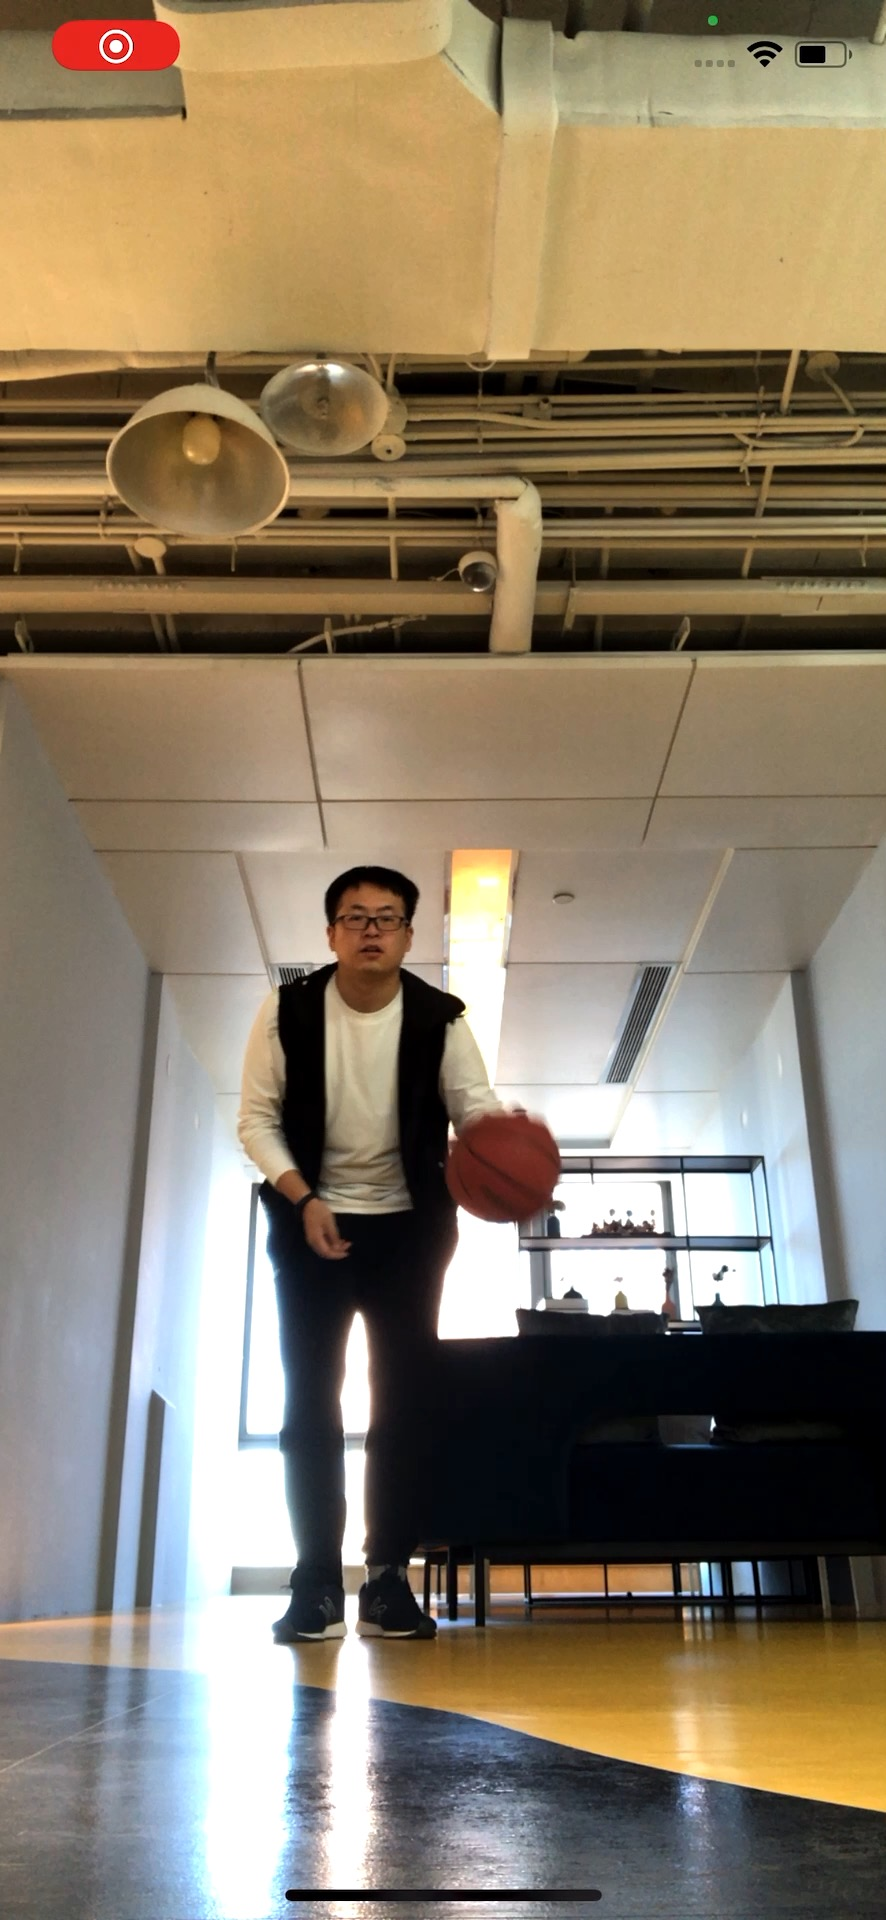ball: (443, 1114, 565, 1221)
